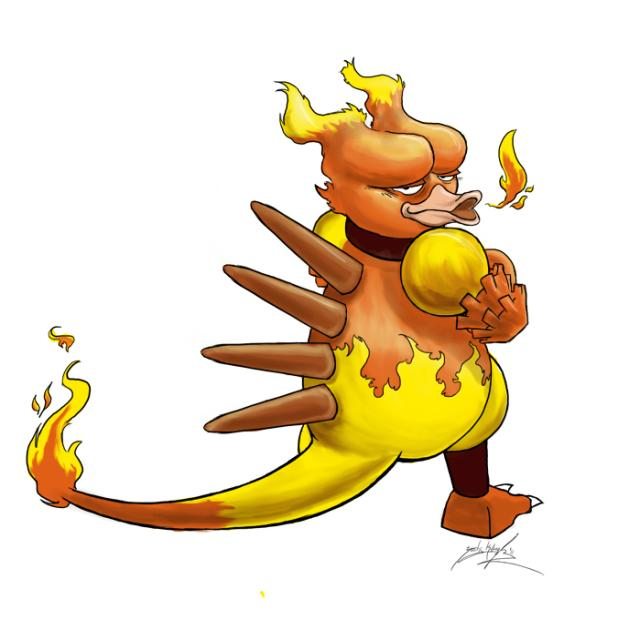Magmar: (205, 53, 590, 559)
